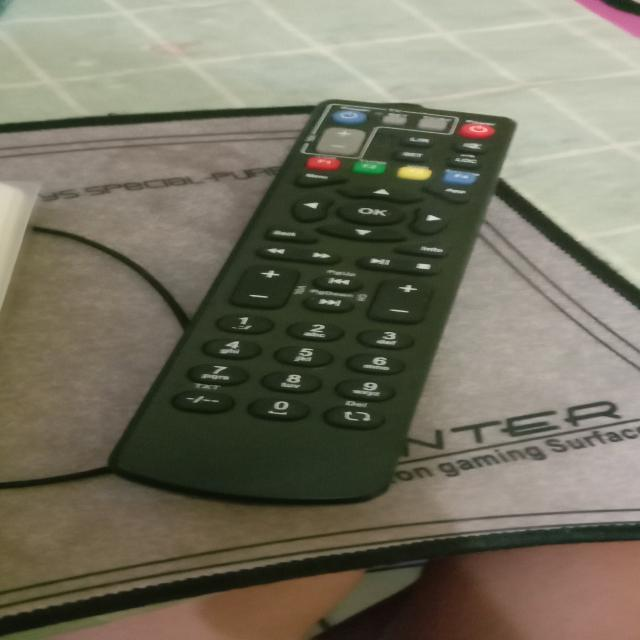remote: (75, 92, 541, 517)
